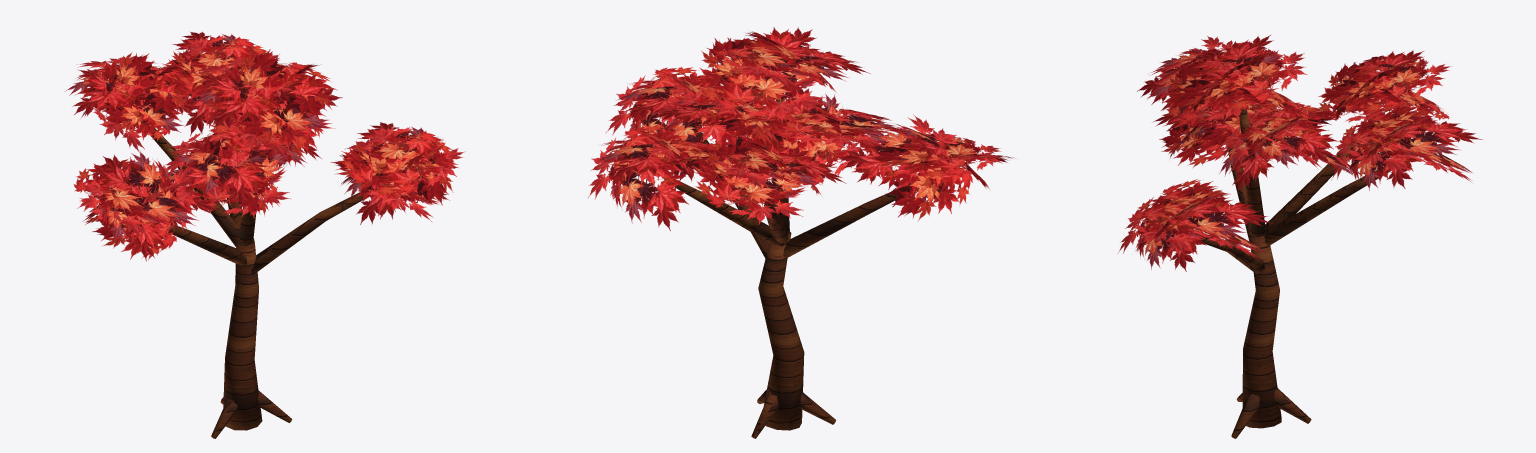
File: tree_maple_hero.glb
The picture shows the model from 3 angles, left to right: view 1: azimuth 30°, elevation 25°; view 2: azimuth 150°, elevation 25°; view 3: azimuth 270°, elevation 25°; orthographic projection. The views are drawn at different scales.
Parts seen in each view (by area): view 1: maple_canopy, maple_trunk; view 2: maple_canopy, maple_trunk; view 3: maple_canopy, maple_trunk.
Boxes of the visible parts, x1,y1,x2,y2 form: maple_canopy: (64,31,465,261); maple_trunk: (151,124,372,438); maple_canopy: (588,27,1015,231); maple_trunk: (672,88,908,438); maple_canopy: (1117,34,1482,271); maple_trunk: (1200,108,1390,438).
Bounding box in the file's own units: 7.21 × 5.86 × 5.99.
Materials: 2 (2 with a texture image).
